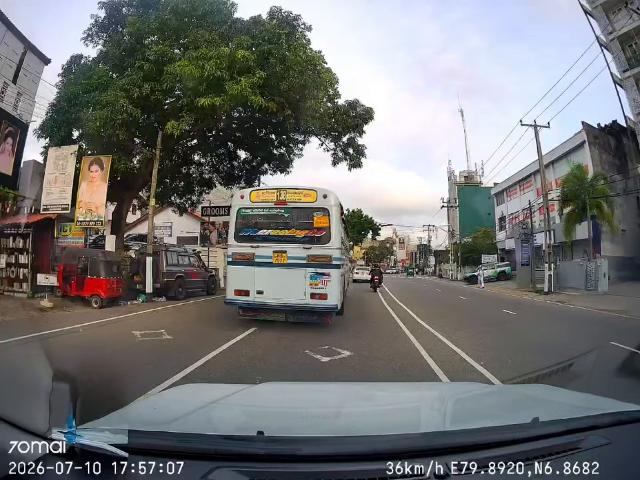number plate: (268, 252, 293, 268)
